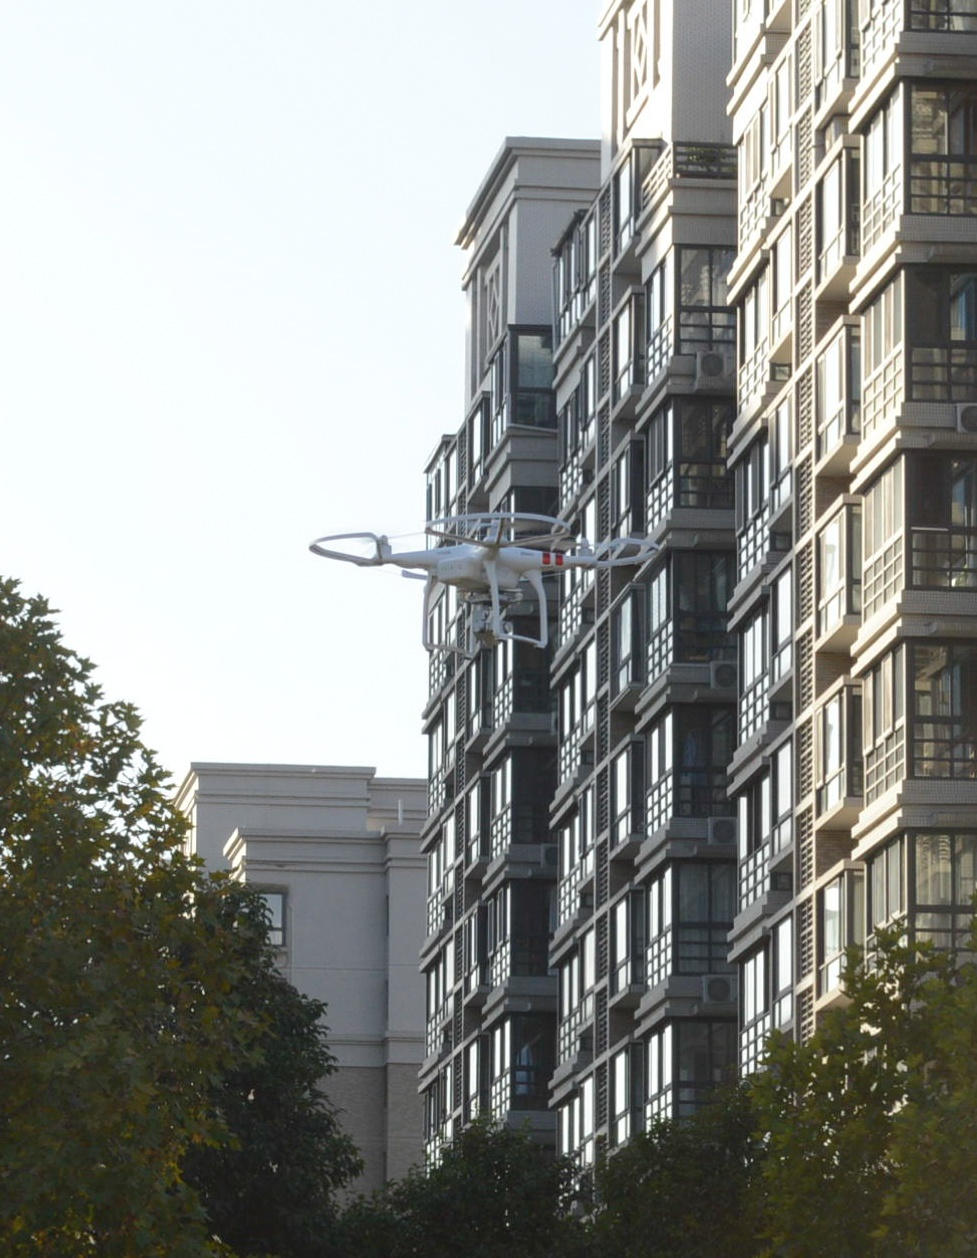DJI: (302, 509, 657, 647)
